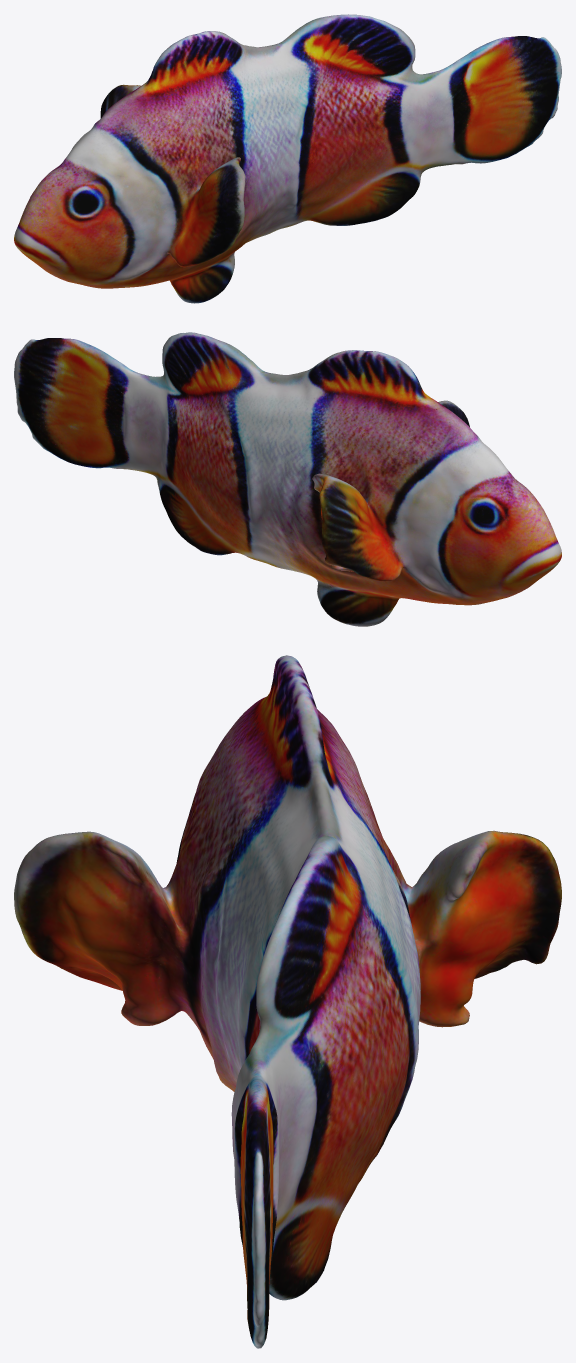
File: asdasxxnemo.fbx
The picture shows the model from 3 angles, top to bottom: view 1: azimuth 30°, elevation 25°; view 2: azimuth 150°, elevation 25°; view 3: azimuth 270°, elevation 25°; orthographic projection. The views are drawn at different scales.
Visible parts, largest first — view 1: f3c88bec49a0_clownfish_realistic3:Mesh; view 2: f3c88bec49a0_clownfish_realistic3:Mesh; view 3: f3c88bec49a0_clownfish_realistic3:Mesh.
Boxes of the visible parts, x1,y1,x2,y2 form: f3c88bec49a0_clownfish_realistic3:Mesh: (14, 14, 561, 303); f3c88bec49a0_clownfish_realistic3:Mesh: (14, 332, 561, 626); f3c88bec49a0_clownfish_realistic3:Mesh: (14, 655, 561, 1348).
Size of the model in its own units: 1 by 0.4799 by 0.4454.
Materials: 1 (1 with a texture image).
